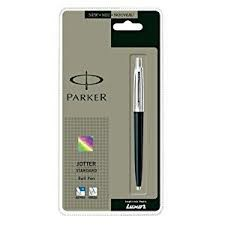pen: (133, 56, 144, 187)
